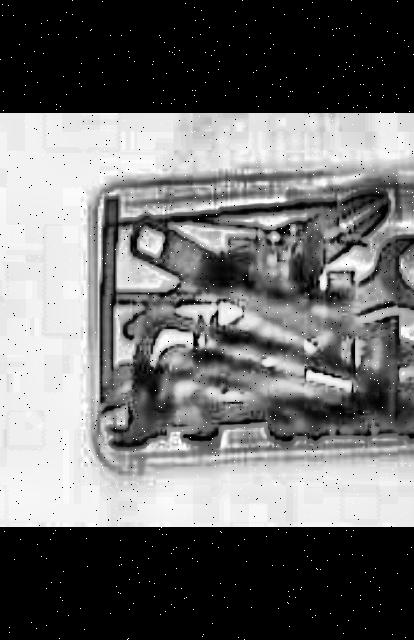Pliers: (115, 166, 414, 380)
Wrench: (110, 200, 414, 406), (151, 228, 414, 412), (66, 317, 284, 453)
